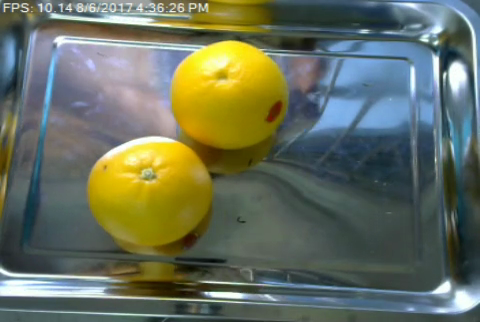Orange: (87, 133, 211, 245), (169, 39, 290, 149)
